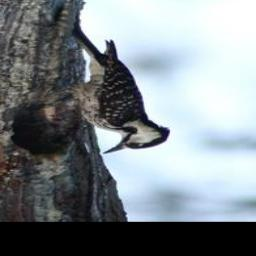Woodpecker: (31, 26, 174, 156)
